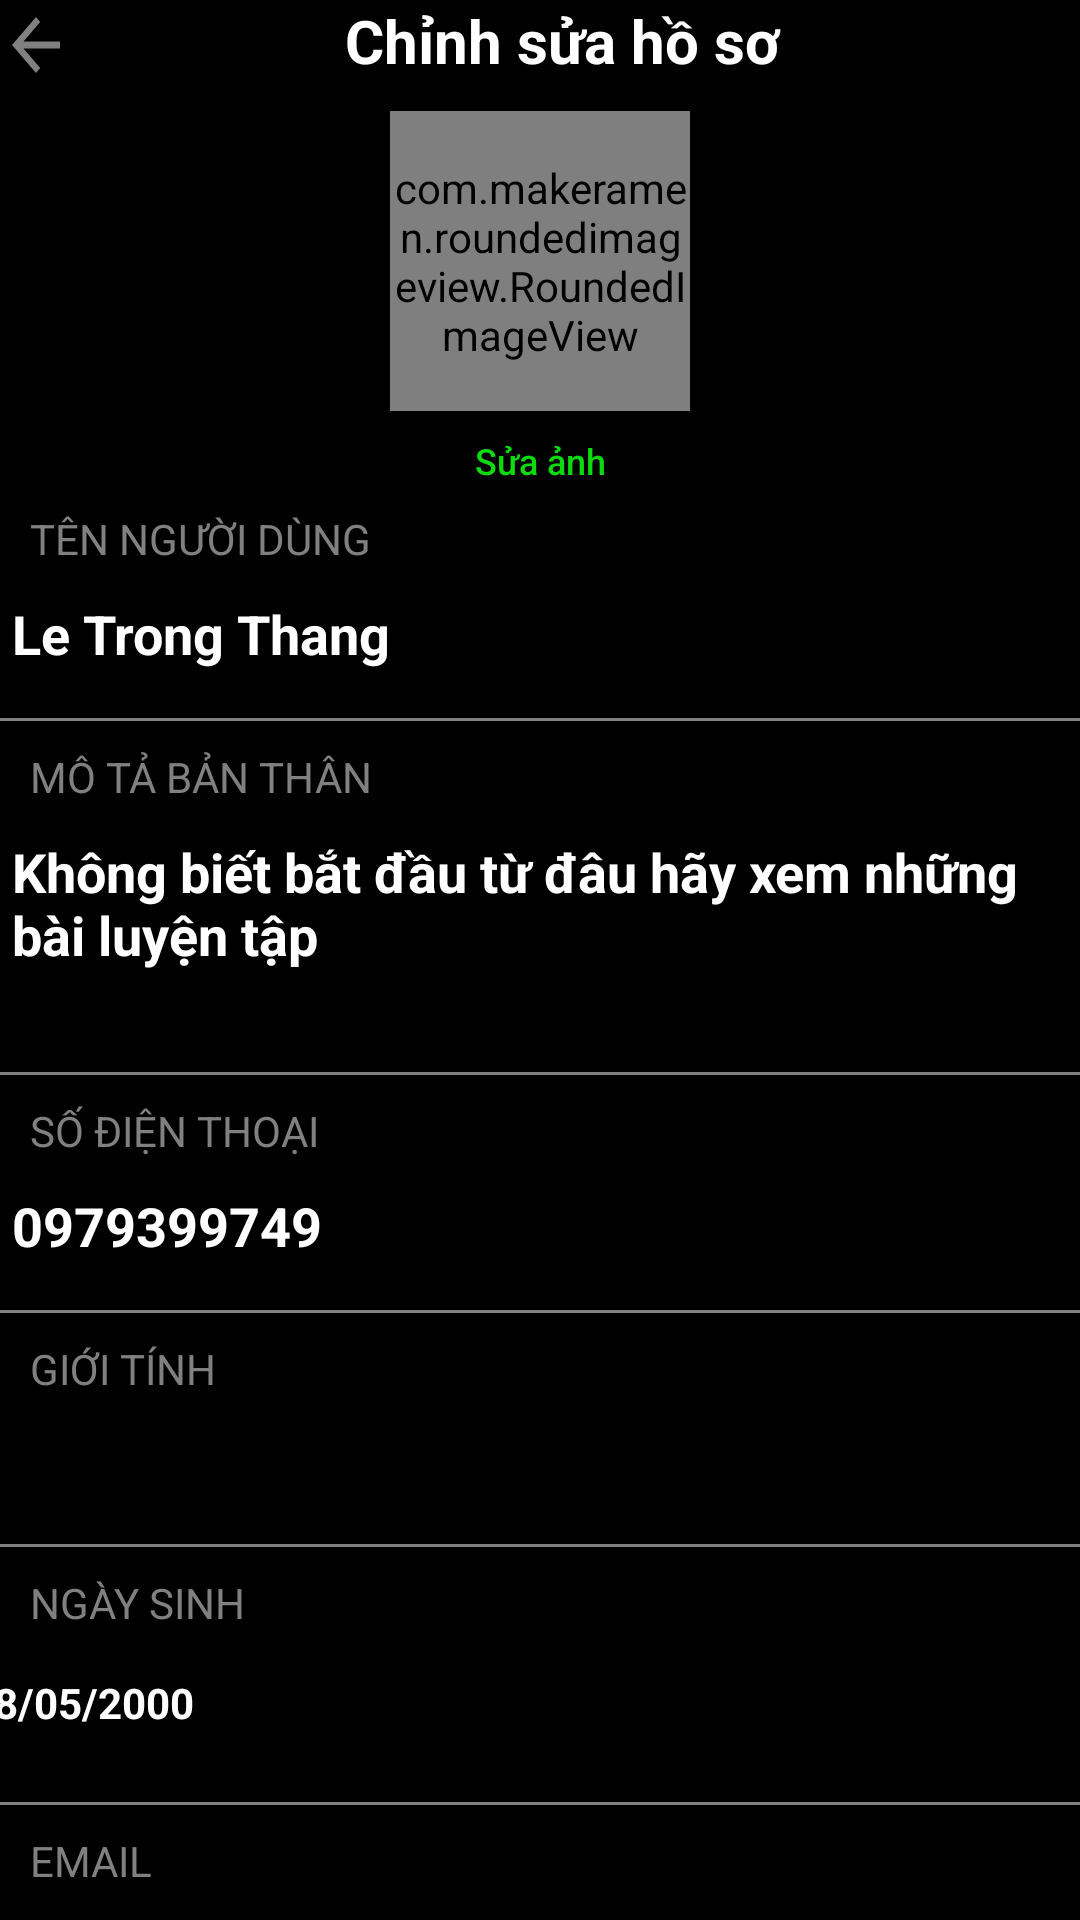

Named icons in this screenshot (1080*1920) and their centers, point (x, y):
arrow back: point (36, 45)
